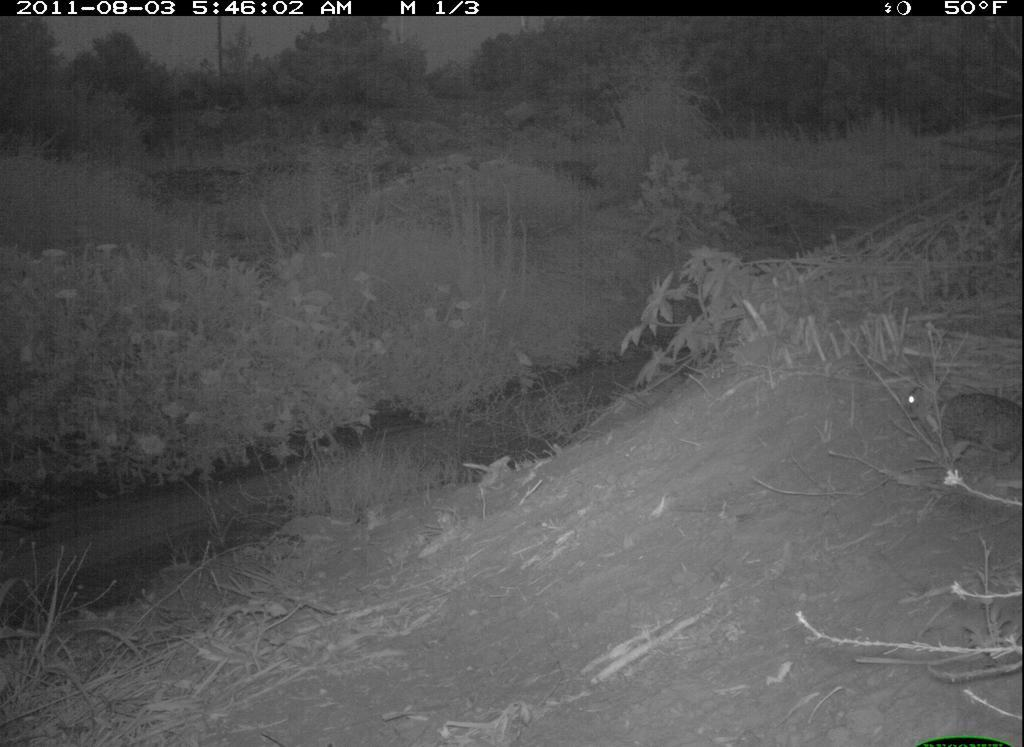rabbit: (897, 372, 1017, 470)
